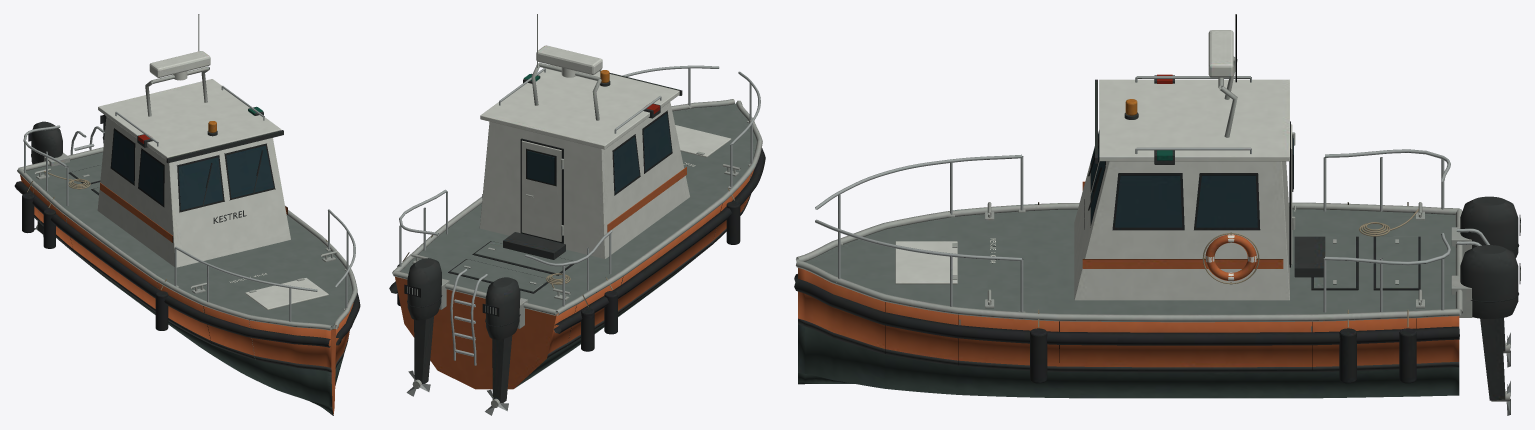
Rendered from RescueLaunch.glb.
The picture shows the model from 3 angles, left to right: view 1: azimuth 30°, elevation 25°; view 2: azimuth 150°, elevation 25°; view 3: azimuth 270°, elevation 25°; orthographic projection. The views are drawn at different scales.
Parts seen in each view (by area): view 1: RescueLaunch_Export; view 2: RescueLaunch_Export; view 3: RescueLaunch_Export.
Boxes of the visible parts, <box> form: RescueLaunch_Export: <box>14,14,360,415</box>; RescueLaunch_Export: <box>389,14,765,415</box>; RescueLaunch_Export: <box>794,14,1520,415</box>.
Size of the model in its own units: 3.45 by 5.2 by 8.76.
1 material, 1 textured.
